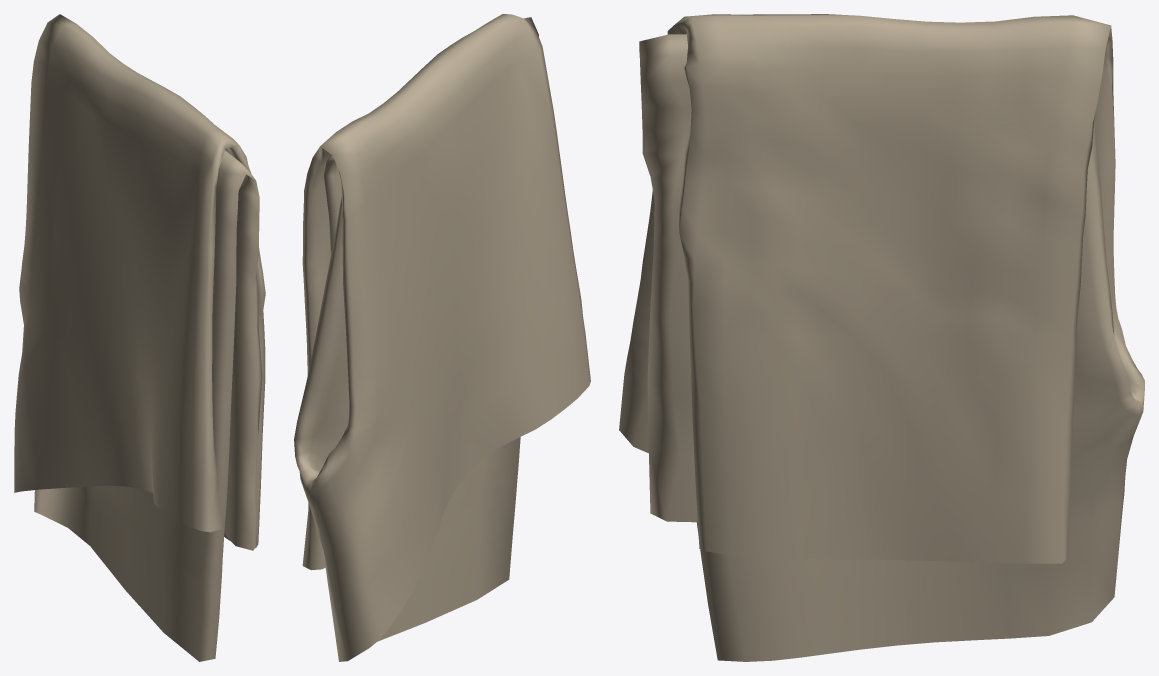
The model's file is pant5.glb.
The picture shows the model from 3 angles, left to right: view 1: azimuth 30°, elevation 25°; view 2: azimuth 150°, elevation 25°; view 3: azimuth 270°, elevation 25°; orthographic projection. The views are drawn at different scales.
Visible parts, largest first — view 1: pants001; view 2: pants001; view 3: pants001.
Boxes of the visible parts, bbox=[...] form: pants001: bbox=[14, 14, 265, 661]; pants001: bbox=[294, 14, 590, 661]; pants001: bbox=[619, 14, 1144, 661].
Bounding box in the file's own units: 0.0738 × 0.3634 × 0.2683.
